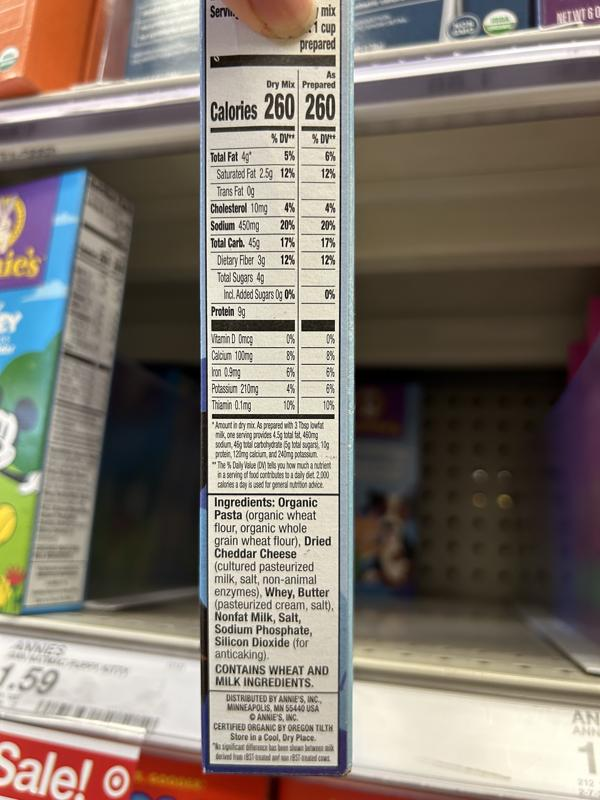ingredients: (212, 497, 335, 662)
